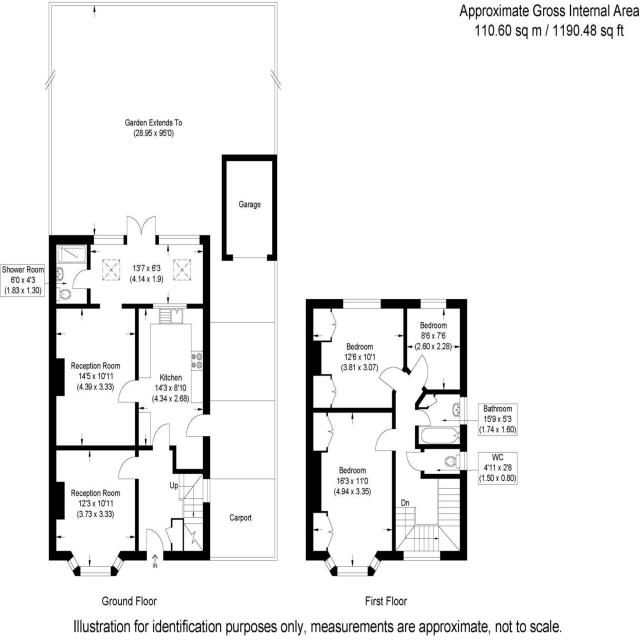DOOR: (378, 366, 405, 393), (408, 354, 428, 390), (186, 413, 210, 438), (146, 528, 164, 560), (375, 427, 396, 452), (118, 455, 139, 480), (152, 422, 170, 451), (118, 379, 139, 403), (406, 451, 425, 472), (72, 268, 91, 289), (415, 409, 431, 426)
DOUBLE DOOR: (126, 214, 157, 245)
ROOM: (118, 304, 211, 474), (306, 408, 396, 577), (48, 303, 139, 451), (48, 445, 139, 577), (306, 298, 407, 413), (403, 299, 467, 394)
WINDOW: (158, 234, 200, 245), (342, 298, 381, 309), (403, 550, 441, 561), (79, 565, 111, 577), (336, 566, 368, 577), (93, 234, 124, 245), (420, 298, 447, 309), (369, 554, 382, 573), (324, 555, 337, 573), (112, 555, 125, 573), (202, 478, 211, 503), (152, 303, 187, 309), (67, 555, 79, 572), (460, 397, 467, 425), (459, 451, 467, 471)
